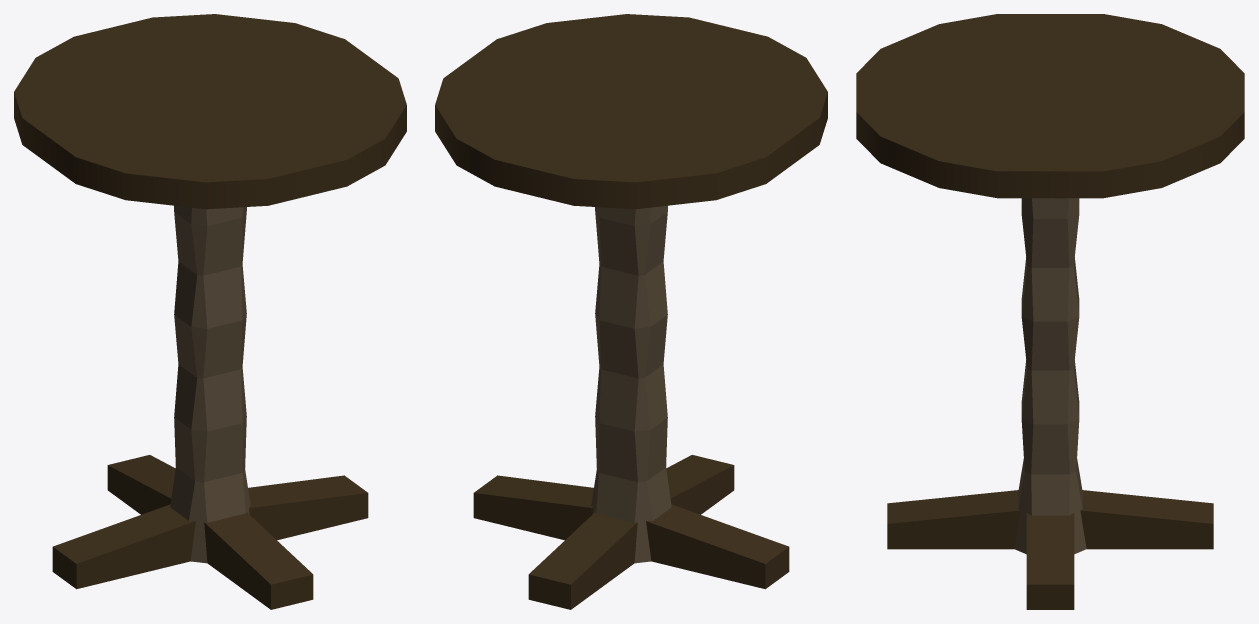
Rendered from round-table.glb.
The picture shows the model from 3 angles, left to right: view 1: azimuth 30°, elevation 25°; view 2: azimuth 150°, elevation 25°; view 3: azimuth 270°, elevation 25°; orthographic projection.
Visible parts, largest first — view 1: Table_Circular; view 2: Table_Circular; view 3: Table_Circular.
Boxes of the visible parts, x1,y1,x2,y2 form: Table_Circular: [14, 14, 406, 609]; Table_Circular: [435, 14, 827, 609]; Table_Circular: [856, 14, 1244, 609].
Bounding box in the file's own units: 0.7193 × 0.9509 × 0.75.
1 material, 1 textured.
